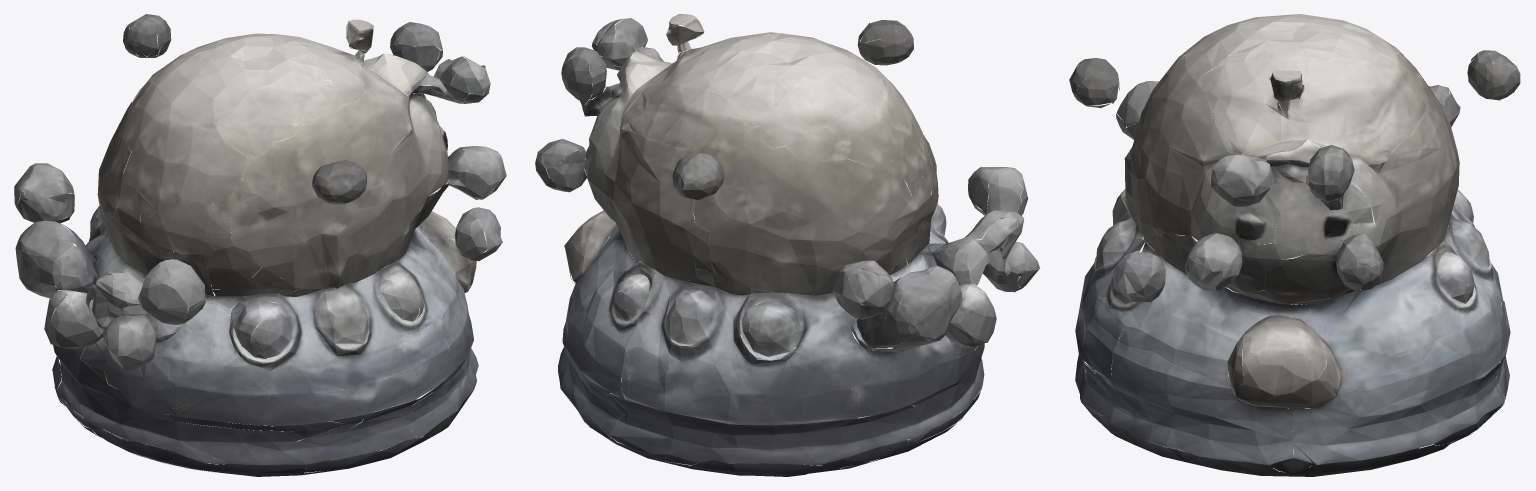
3 views of the same model, side by side, from view 1: azimuth 30°, elevation 25°; view 2: azimuth 150°, elevation 25°; view 3: azimuth 270°, elevation 25° (orthographic). The views are drawn at different scales.
Visible parts, largest first — view 1: world; view 2: world; view 3: world.
Part boxes in pixels (x1,y1,x2,y2): world: [14, 14, 506, 476]; world: [535, 14, 1039, 476]; world: [1069, 14, 1520, 476].
Bounding box in the file's own units: 0.9991 × 0.8898 × 0.8962.
Materials: 1 (1 with a texture image).
